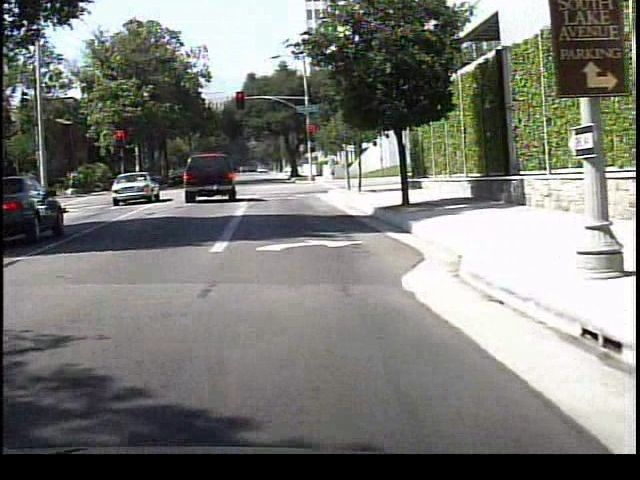person: (325, 153, 341, 181)
